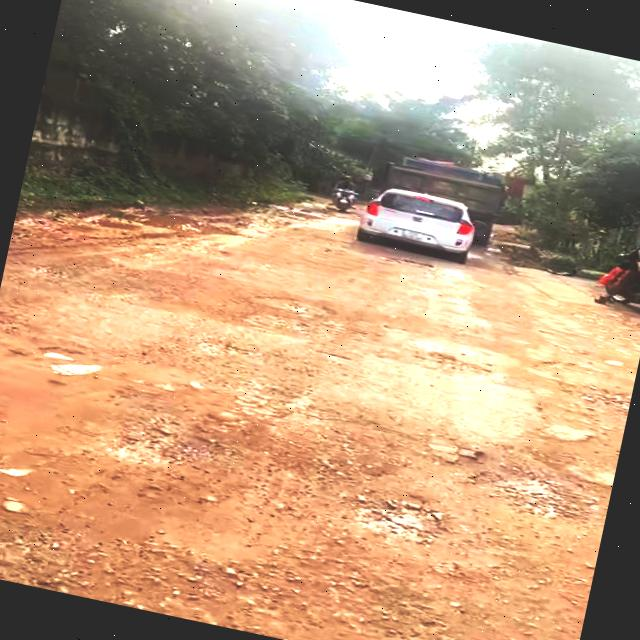pothole: (456, 454, 605, 528), (519, 410, 624, 490), (340, 484, 455, 552), (532, 356, 636, 422), (405, 342, 498, 384), (246, 287, 344, 323)
